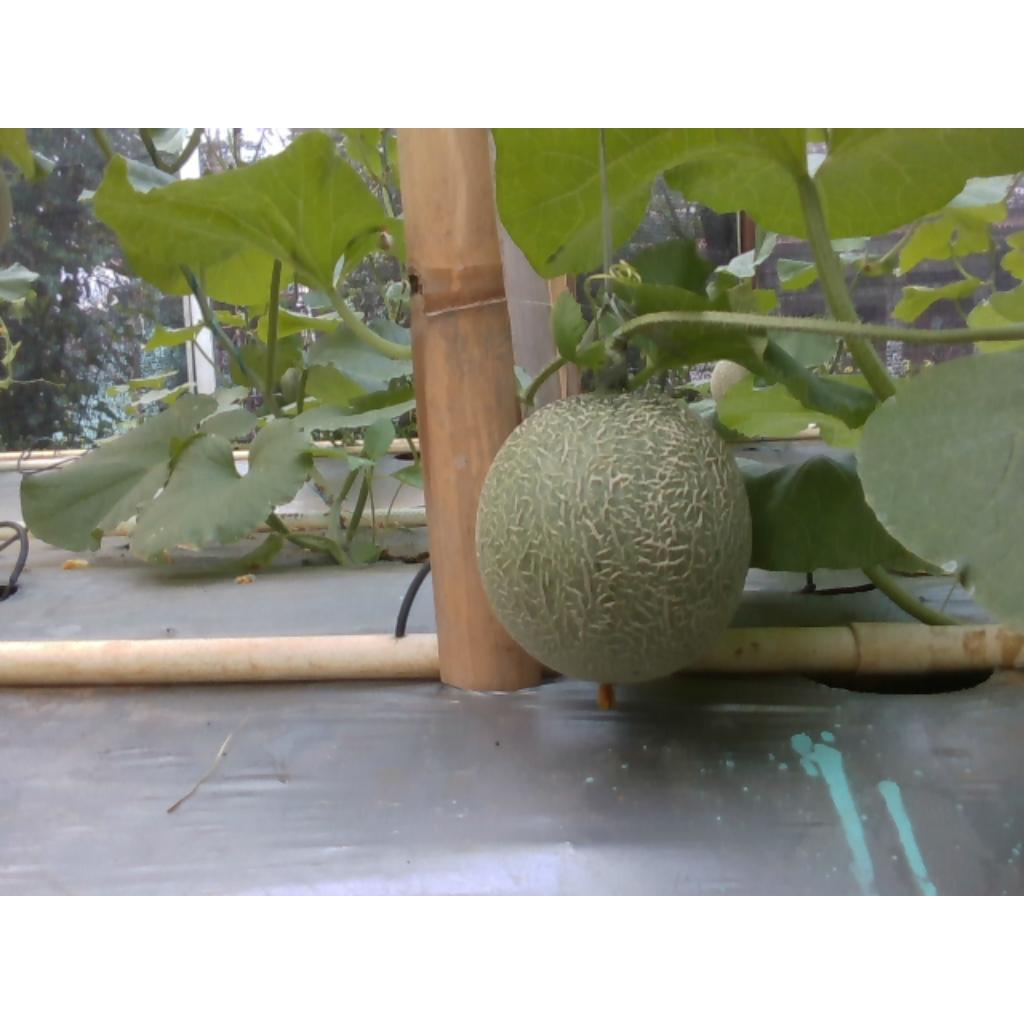melon: (478, 394, 752, 682)
